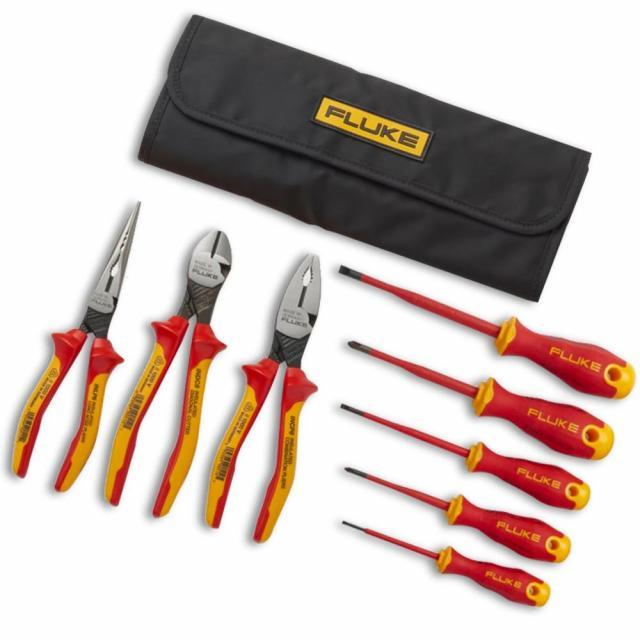pliers: (101, 226, 237, 518), (10, 202, 143, 494), (202, 248, 328, 545)
screwdriver: (332, 259, 637, 403), (340, 336, 620, 464), (335, 404, 595, 516), (343, 468, 574, 568), (340, 516, 553, 612)
